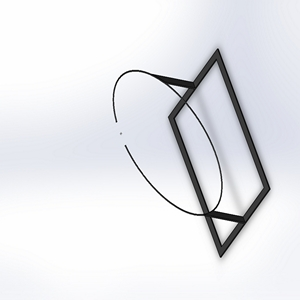circle: (111, 47, 270, 257)
